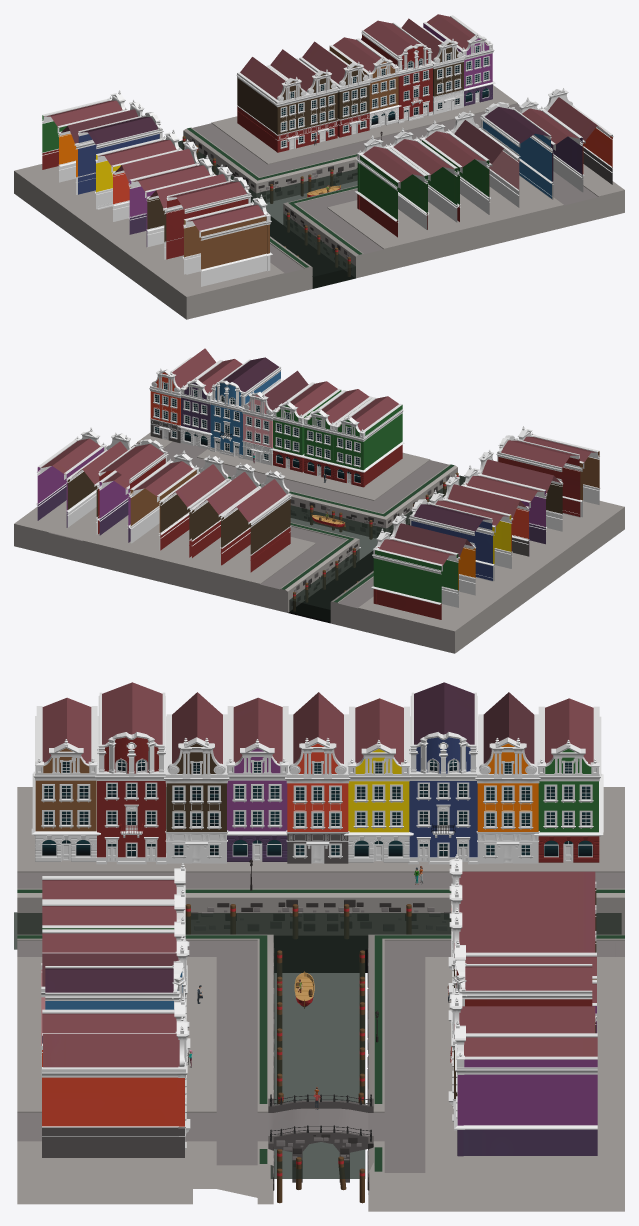
The model's file is base-ams-10.glb.
3 renders of one model, top to bottom at view 1: azimuth 30°, elevation 25°; view 2: azimuth 150°, elevation 25°; view 3: azimuth 270°, elevation 25°, orthographic. The views are drawn at different scales.
Parts seen in each view (by area): view 1: Ground, Parts_geo_25_New_color_palette_mat_0.004, Water_geo, Parts_geo_10_New_color_palette_mat_0.002, Parts_geo_14_New_color_palette_mat_0.005, Parts_geo_28_New_color_palette_mat_0.002, Parts_geo_14_New_color_palette_mat_0.004, Parts_geo_23_New_color_palette_mat_0.004, Parts_geo_10_New_color_palette_mat_0.009, Parts_geo_10_New_color_palette_mat_0.001, Parts_geo_22_New_color_palette_mat_0.001, Parts_geo_10_New_color_palette_mat_0.010 (+20 smaller); view 2: Ground, Parts_geo_10_New_color_palette_mat_0.007, Water_geo, Parts_geo_28_New_color_palette_mat_0.002, Parts_geo_10_New_color_palette_mat_0.002, Parts_geo_23_New_color_palette_mat_0.004, Parts_geo_14_New_color_palette_mat_0.004, Parts_geo_07_New_color_palette_mat_0.001, Parts_geo_25_New_color_palette_mat_0.005, Parts_geo_28_New_color_palette_mat_0.003, Parts_geo_28_New_color_palette_mat_0.001, Parts_geo_13 (+21 smaller); view 3: Ground, Water_geo, Parts_geo_16, Parts_geo_07_New_color_palette_mat_0.001, Parts_geo_22_New_color_palette_mat_0.003, Parts_geo_13_New_color_palette_mat_0.003, Parts_geo_17_New_color_palette_mat_0.003, Parts_geo_02_New_color_palette_mat_0.003, Parts_geo_20_New_color_palette_mat_0.003, Parts_geo_26_New_color_palette_mat_0.003, Parts_geo_11_New_color_palette_mat_0.005, Parts_geo_11_New_color_palette_mat_0.006 (+25 smaller).
Boxes of the visible parts, <box> form: Ground: <box>14,85,624,319</box>; Parts_geo_25_New_color_palette_mat_0.004: <box>182,203,266,286</box>; Water_geo: <box>178,140,357,288</box>; Parts_geo_10_New_color_palette_mat_0.002: <box>358,146,429,237</box>; Parts_geo_14_New_color_palette_mat_0.005: <box>482,107,552,199</box>; Parts_geo_28_New_color_palette_mat_0.002: <box>236,57,285,150</box>; Parts_geo_14_New_color_palette_mat_0.004: <box>78,116,159,209</box>; Parts_geo_23_New_color_palette_mat_0.004: <box>166,181,248,274</box>; Parts_geo_10_New_color_palette_mat_0.009: <box>422,131,491,221</box>; Parts_geo_10_New_color_palette_mat_0.001: <box>390,139,459,229</box>; Parts_geo_22_New_color_palette_mat_0.001: <box>396,44,433,123</box>; Parts_geo_10_New_color_palette_mat_0.010: <box>519,108,584,199</box>; Ground: <box>14,432,624,653</box>; Parts_geo_10_New_color_palette_mat_0.007: <box>374,538,458,619</box>; Water_geo: <box>289,475,465,621</box>; Parts_geo_28_New_color_palette_mat_0.002: <box>220,479,290,572</box>; Parts_geo_10_New_color_palette_mat_0.002: <box>337,396,404,485</box>; Parts_geo_23_New_color_palette_mat_0.004: <box>498,439,580,517</box>; Parts_geo_14_New_color_palette_mat_0.004: <box>410,503,493,581</box>; Parts_geo_07_New_color_palette_mat_0.001: <box>36,438,103,527</box>; Parts_geo_25_New_color_palette_mat_0.005: <box>128,461,196,549</box>; Parts_geo_28_New_color_palette_mat_0.003: <box>159,464,227,557</box>; Parts_geo_28_New_color_palette_mat_0.001: <box>190,472,258,564</box>; Parts_geo_13: <box>209,380,246,458</box>; Ground: <box>17,787,624,1211</box>; Water_geo: <box>14,912,621,1178</box>; Parts_geo_16: <box>42,1033,183,1157</box>; Parts_geo_07_New_color_palette_mat_0.001: <box>463,1033,597,1155</box>; Parts_geo_22_New_color_palette_mat_0.003: <box>95,732,166,864</box>; Parts_geo_13_New_color_palette_mat_0.003: <box>407,732,478,864</box>; Parts_geo_17_New_color_palette_mat_0.003: <box>285,737,350,863</box>; Parts_geo_02_New_color_palette_mat_0.003: <box>475,737,540,863</box>; Parts_geo_20_New_color_palette_mat_0.003: <box>164,737,229,863</box>; Parts_geo_26_New_color_palette_mat_0.003: <box>31,739,100,861</box>; Parts_geo_11_New_color_palette_mat_0.005: <box>344,740,413,862</box>; Parts_geo_11_New_color_palette_mat_0.006: <box>533,740,603,862</box>.
Size of the model in its own units: 27.24 by 5.63 by 18.3.
Materials: 10 (9 with a texture image).
